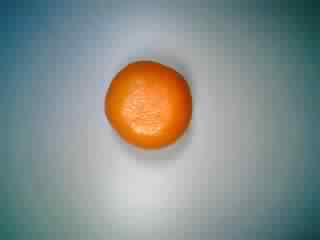orange: (102, 58, 198, 154)
